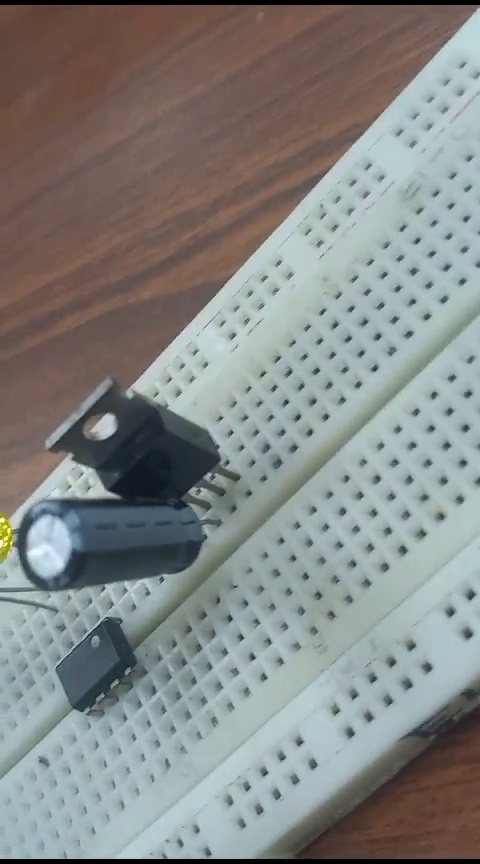IC: (38, 617, 131, 701)
capacitor: (10, 496, 208, 581)
voltage regulator: (38, 372, 246, 504)
